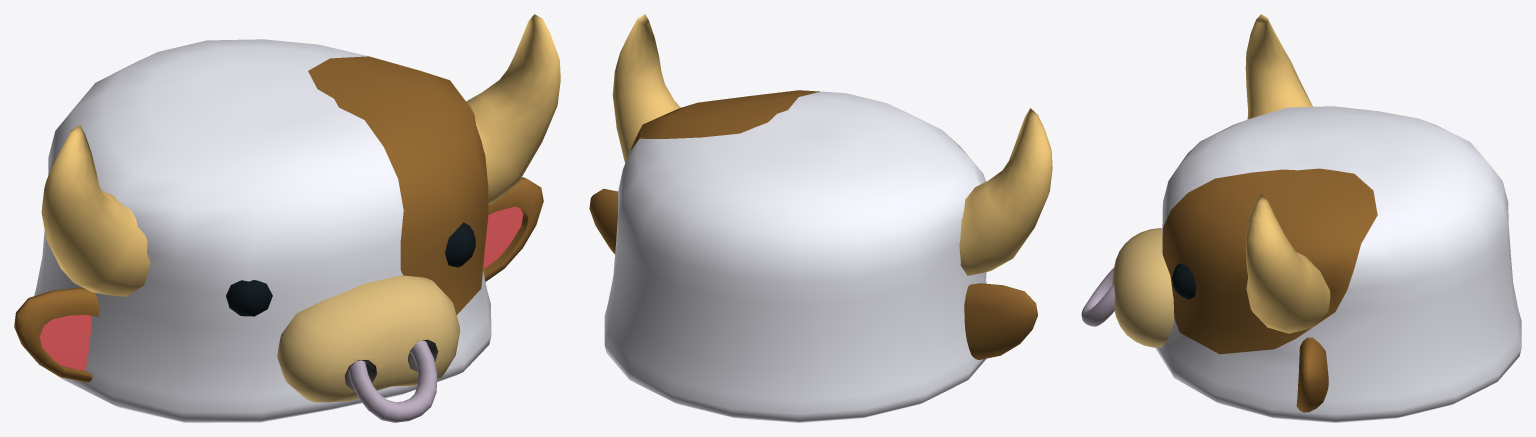
The model's file is Hat_55_03.fbx.
The picture shows the model from 3 angles, left to right: view 1: azimuth 30°, elevation 25°; view 2: azimuth 150°, elevation 25°; view 3: azimuth 270°, elevation 25°; orthographic projection. The views are drawn at different scales.
Parts seen in each view (by area): view 1: Hat_55_03; view 2: Hat_55_03; view 3: Hat_55_03.
Part boxes in pixels (x1=…): Hat_55_03: x1=14, y1=14, x2=560, y2=422; Hat_55_03: x1=589, y1=14, x2=1052, y2=422; Hat_55_03: x1=1081, y1=14, x2=1521, y2=422.
Bounding box in the file's own units: 49.71 × 27.04 × 44.34.
